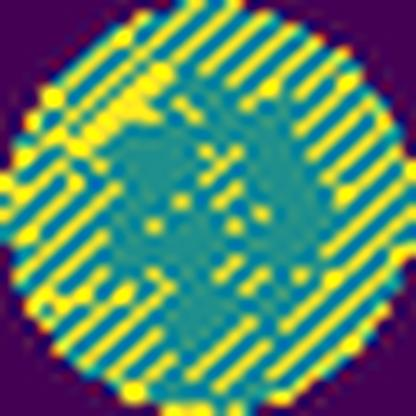Scratch: (0, 0, 416, 416), (139, 138, 248, 243)
